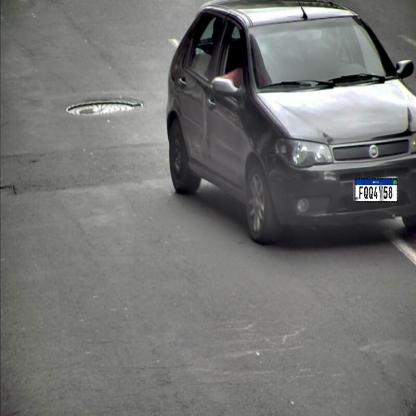PlacaM: (354, 178, 398, 203)
